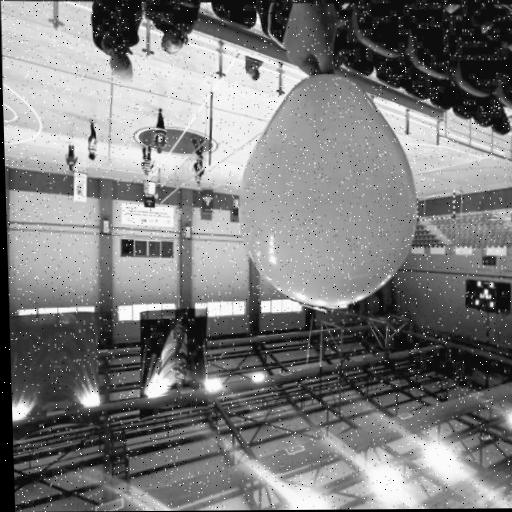balloon: (233, 69, 419, 308)
